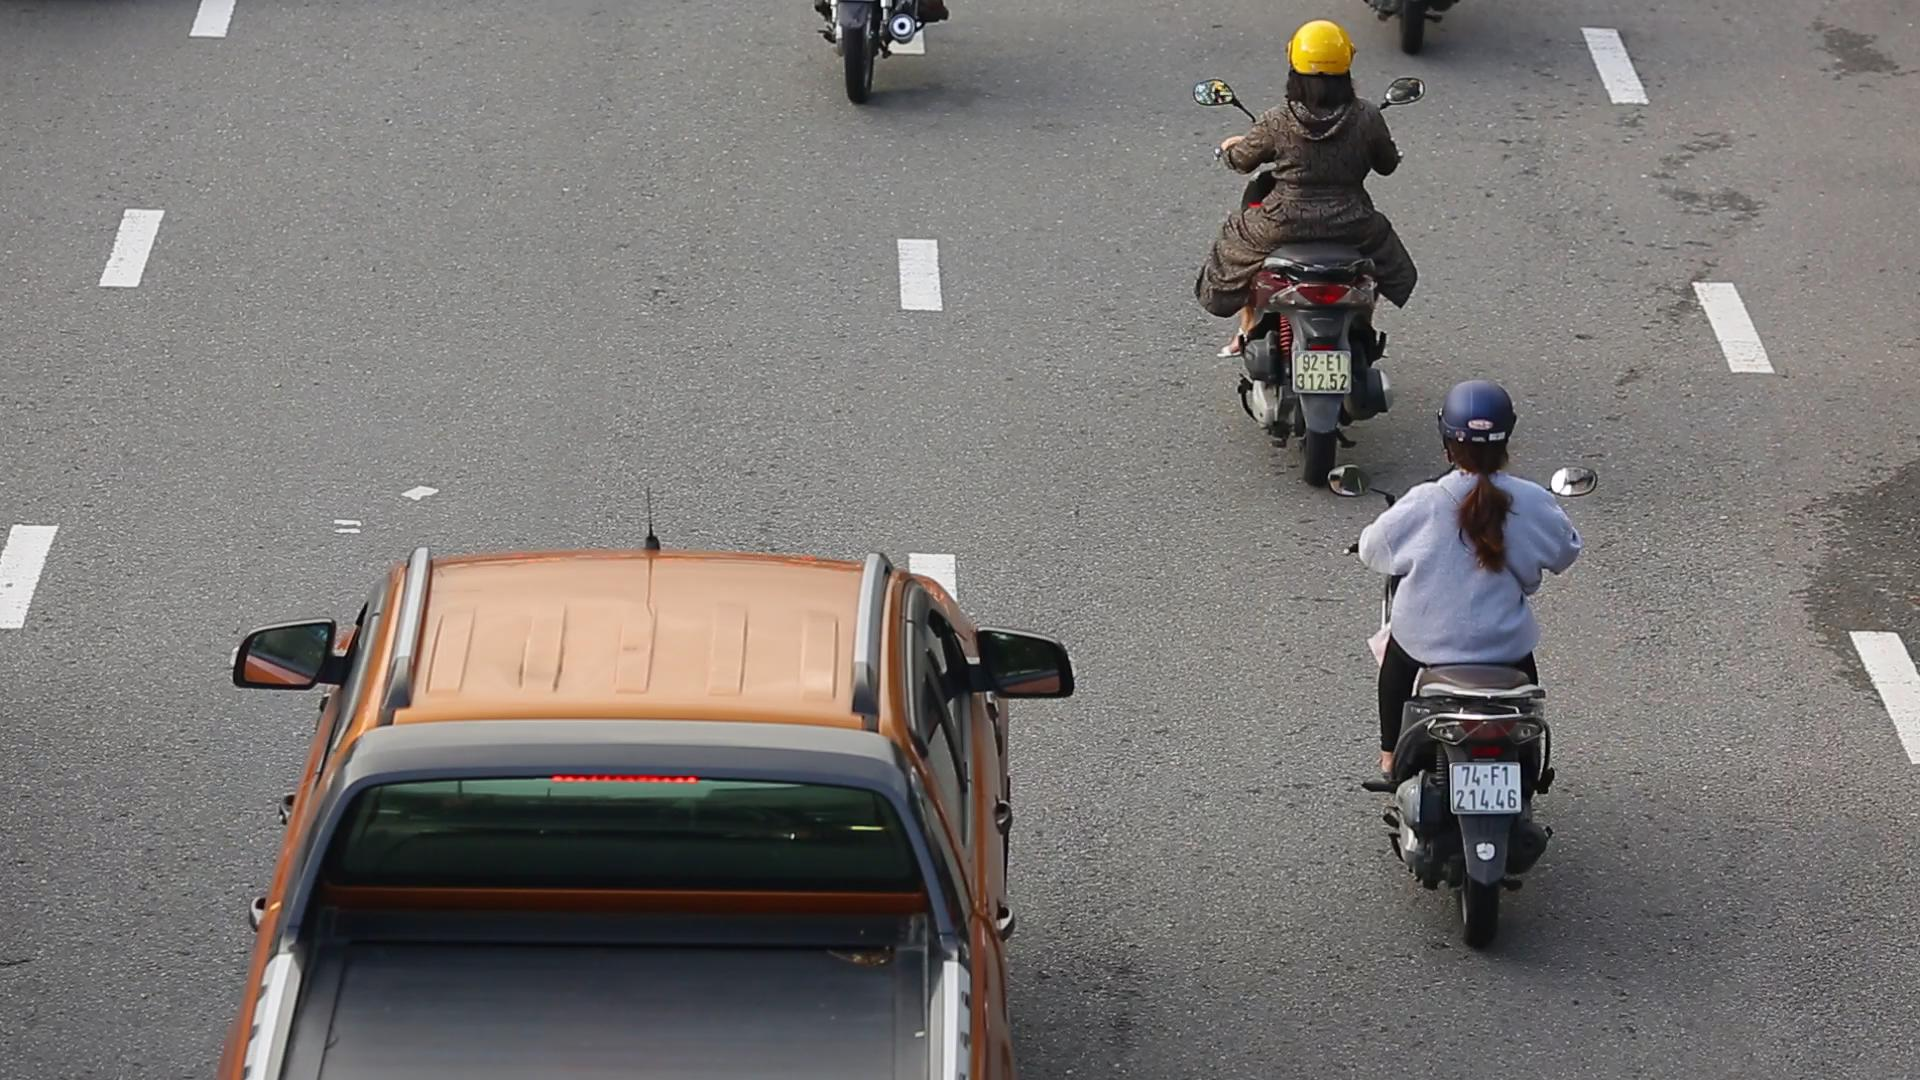motobike: (1345, 380, 1594, 951), (1184, 18, 1422, 476)
